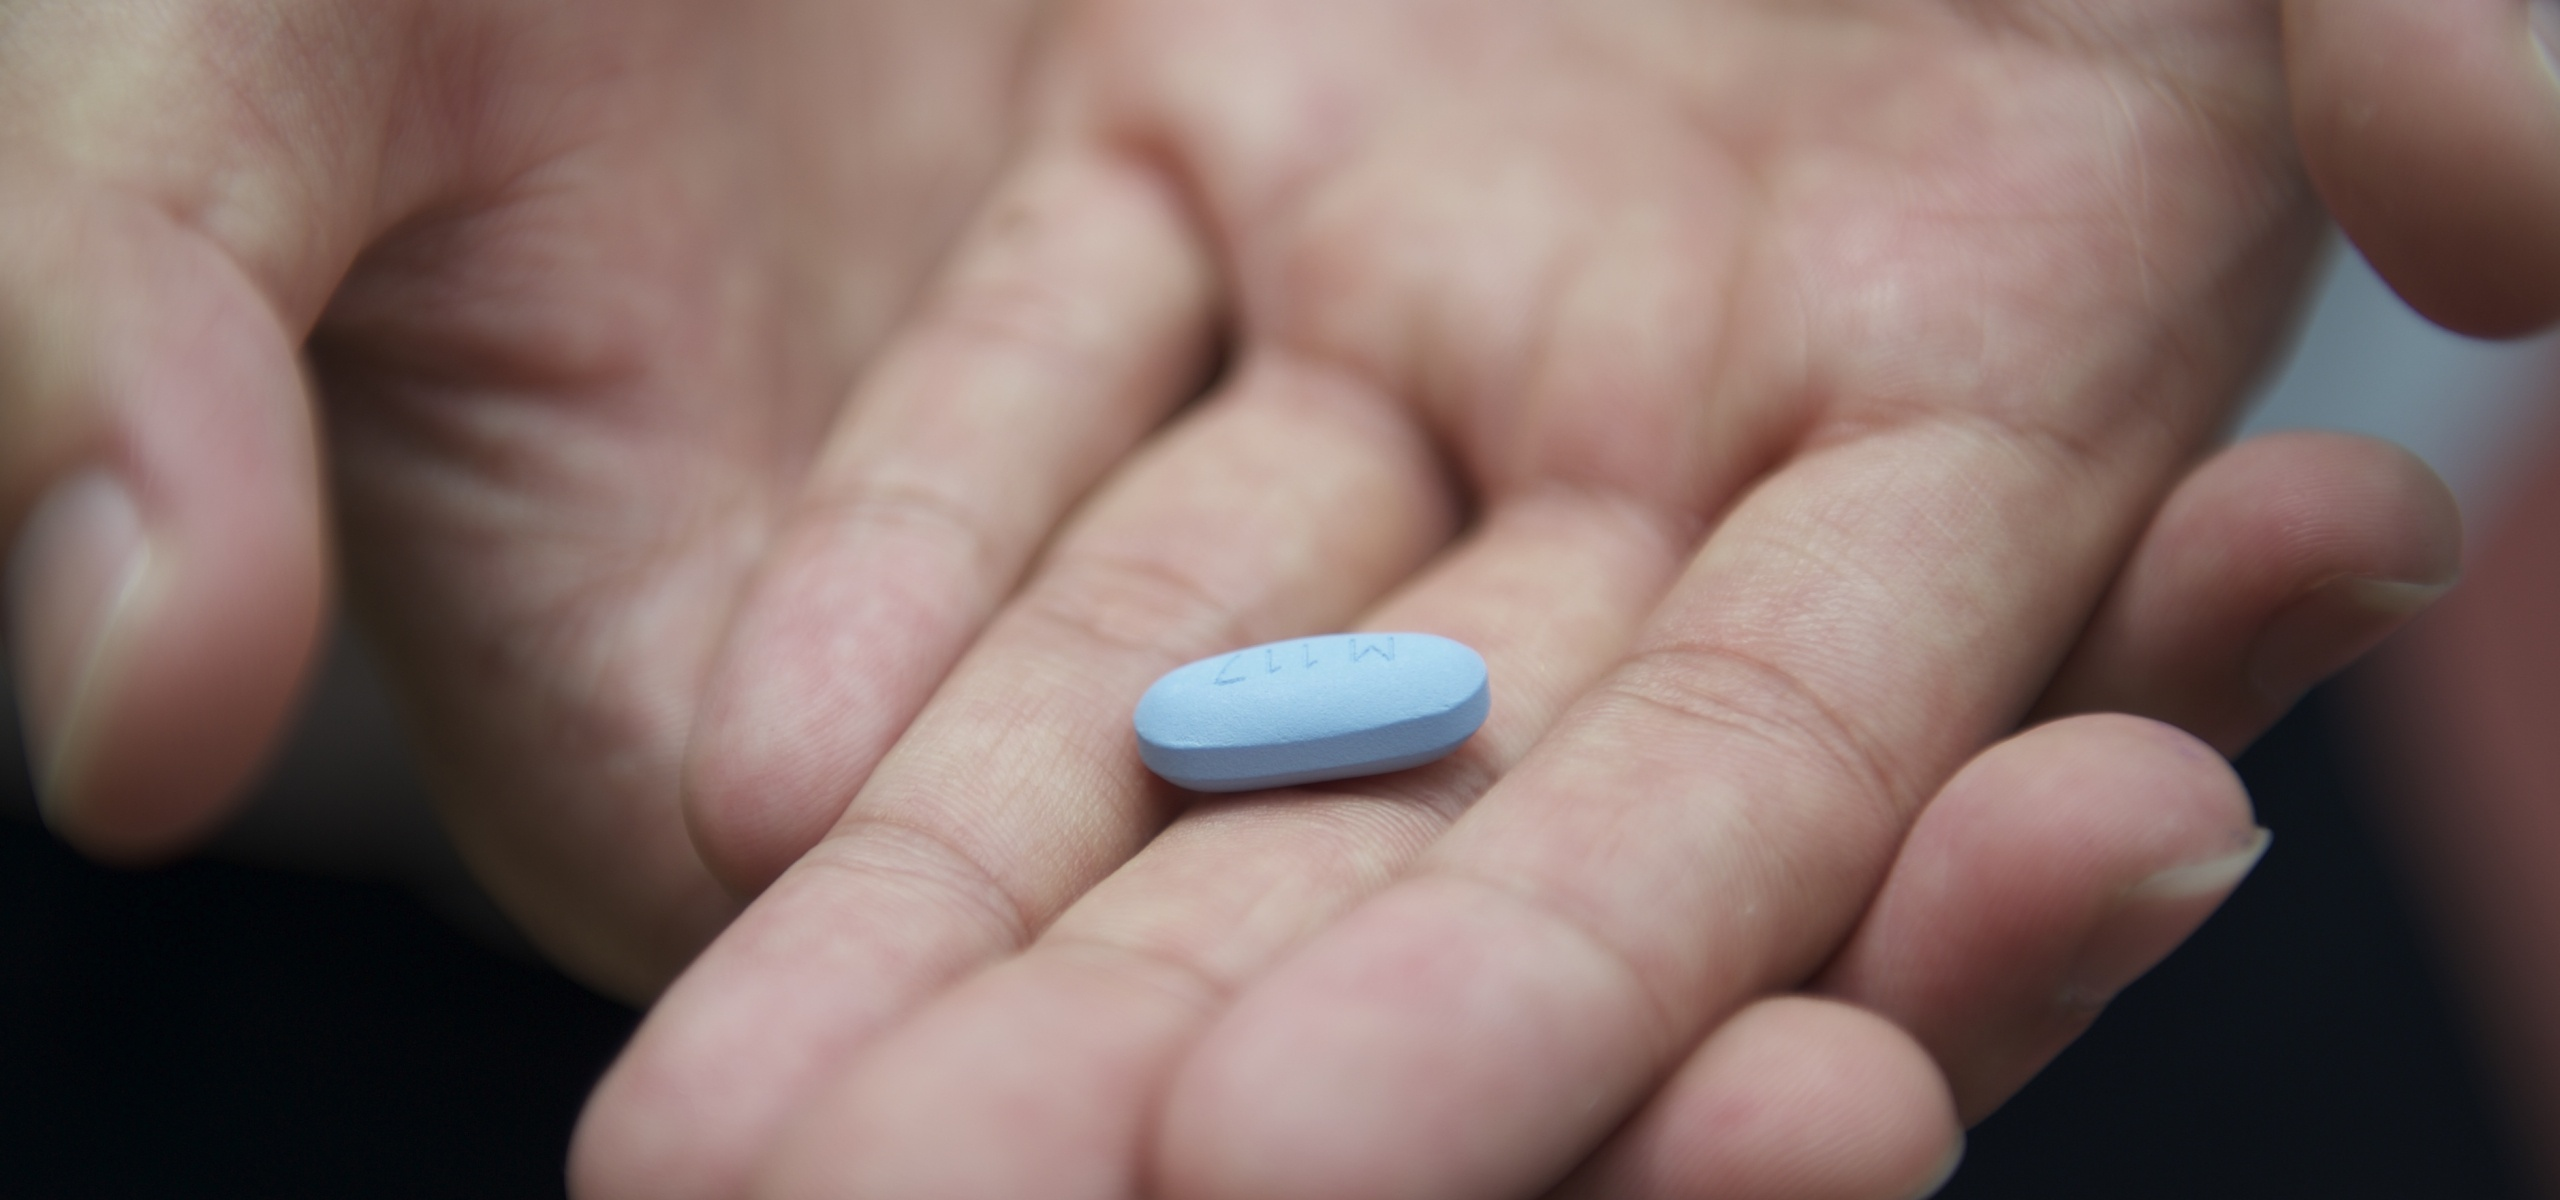pills: (1133, 630, 1481, 797)
